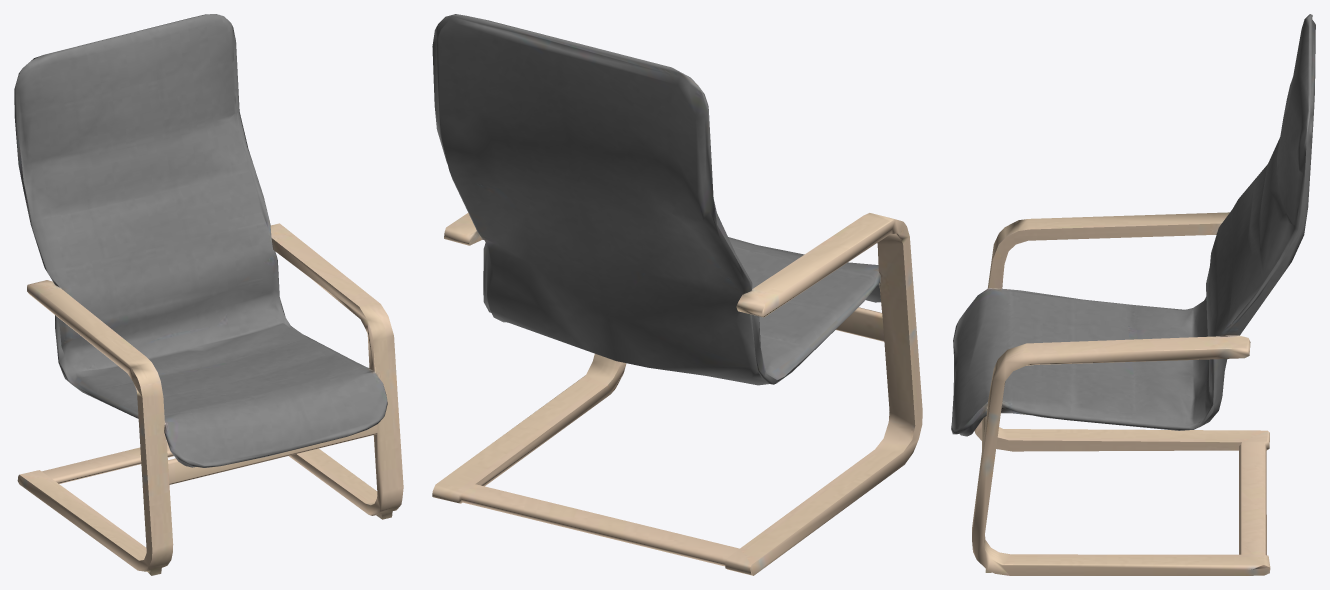
Rendered from 08 - ÅRSUNDA Armchair - Knisa light grey.glb.
3 views of the same model, side by side, from view 1: azimuth 30°, elevation 25°; view 2: azimuth 150°, elevation 25°; view 3: azimuth 270°, elevation 25° (orthographic). The views are drawn at different scales.
Visible parts, largest first — view 1: ASY_ART_00535894_S01_NV01; view 2: ASY_ART_00535894_S01_NV01; view 3: ASY_ART_00535894_S01_NV01.
Boxes of the visible parts, x1=… form: ASY_ART_00535894_S01_NV01: x1=14, y1=14, x2=403, y2=575; ASY_ART_00535894_S01_NV01: x1=432, y1=14, x2=922, y2=575; ASY_ART_00535894_S01_NV01: x1=951, y1=14, x2=1315, y2=575.
Bounding box in the file's own units: 0.6686 × 1.02 × 0.7518.
Materials: 1 (1 with a texture image).
